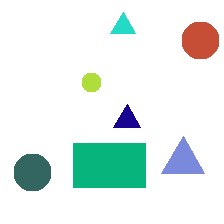circle: (14, 154, 50, 190), (182, 22, 218, 58), (82, 73, 100, 91)
rectangle: (73, 143, 145, 187)
triangle: (161, 136, 204, 173), (113, 104, 140, 127), (110, 12, 135, 33)
